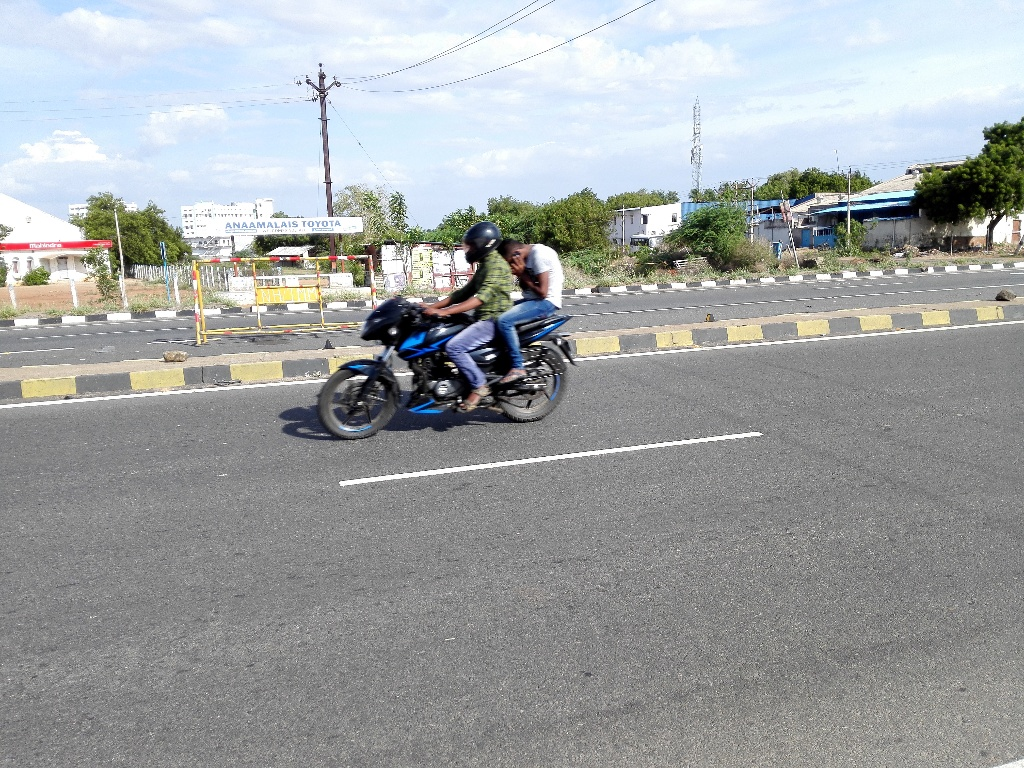biker: (306, 182, 592, 451)
helmet: (457, 212, 501, 275)
nohelmet: (498, 226, 545, 273)
